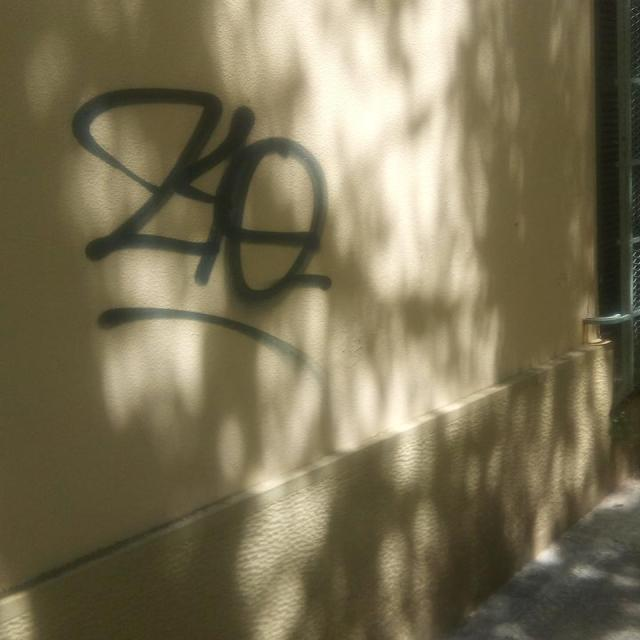nonspitting: (70, 85, 333, 356)
